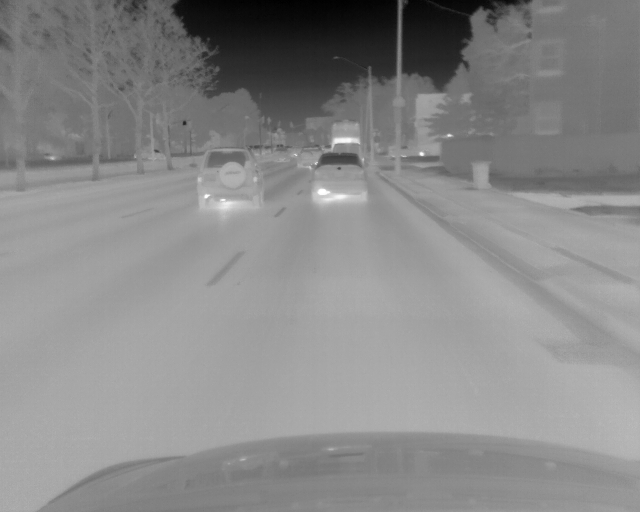car: (193, 147, 263, 211), (307, 152, 368, 207), (327, 121, 359, 153), (132, 147, 166, 164), (296, 145, 316, 170), (272, 145, 289, 166)
